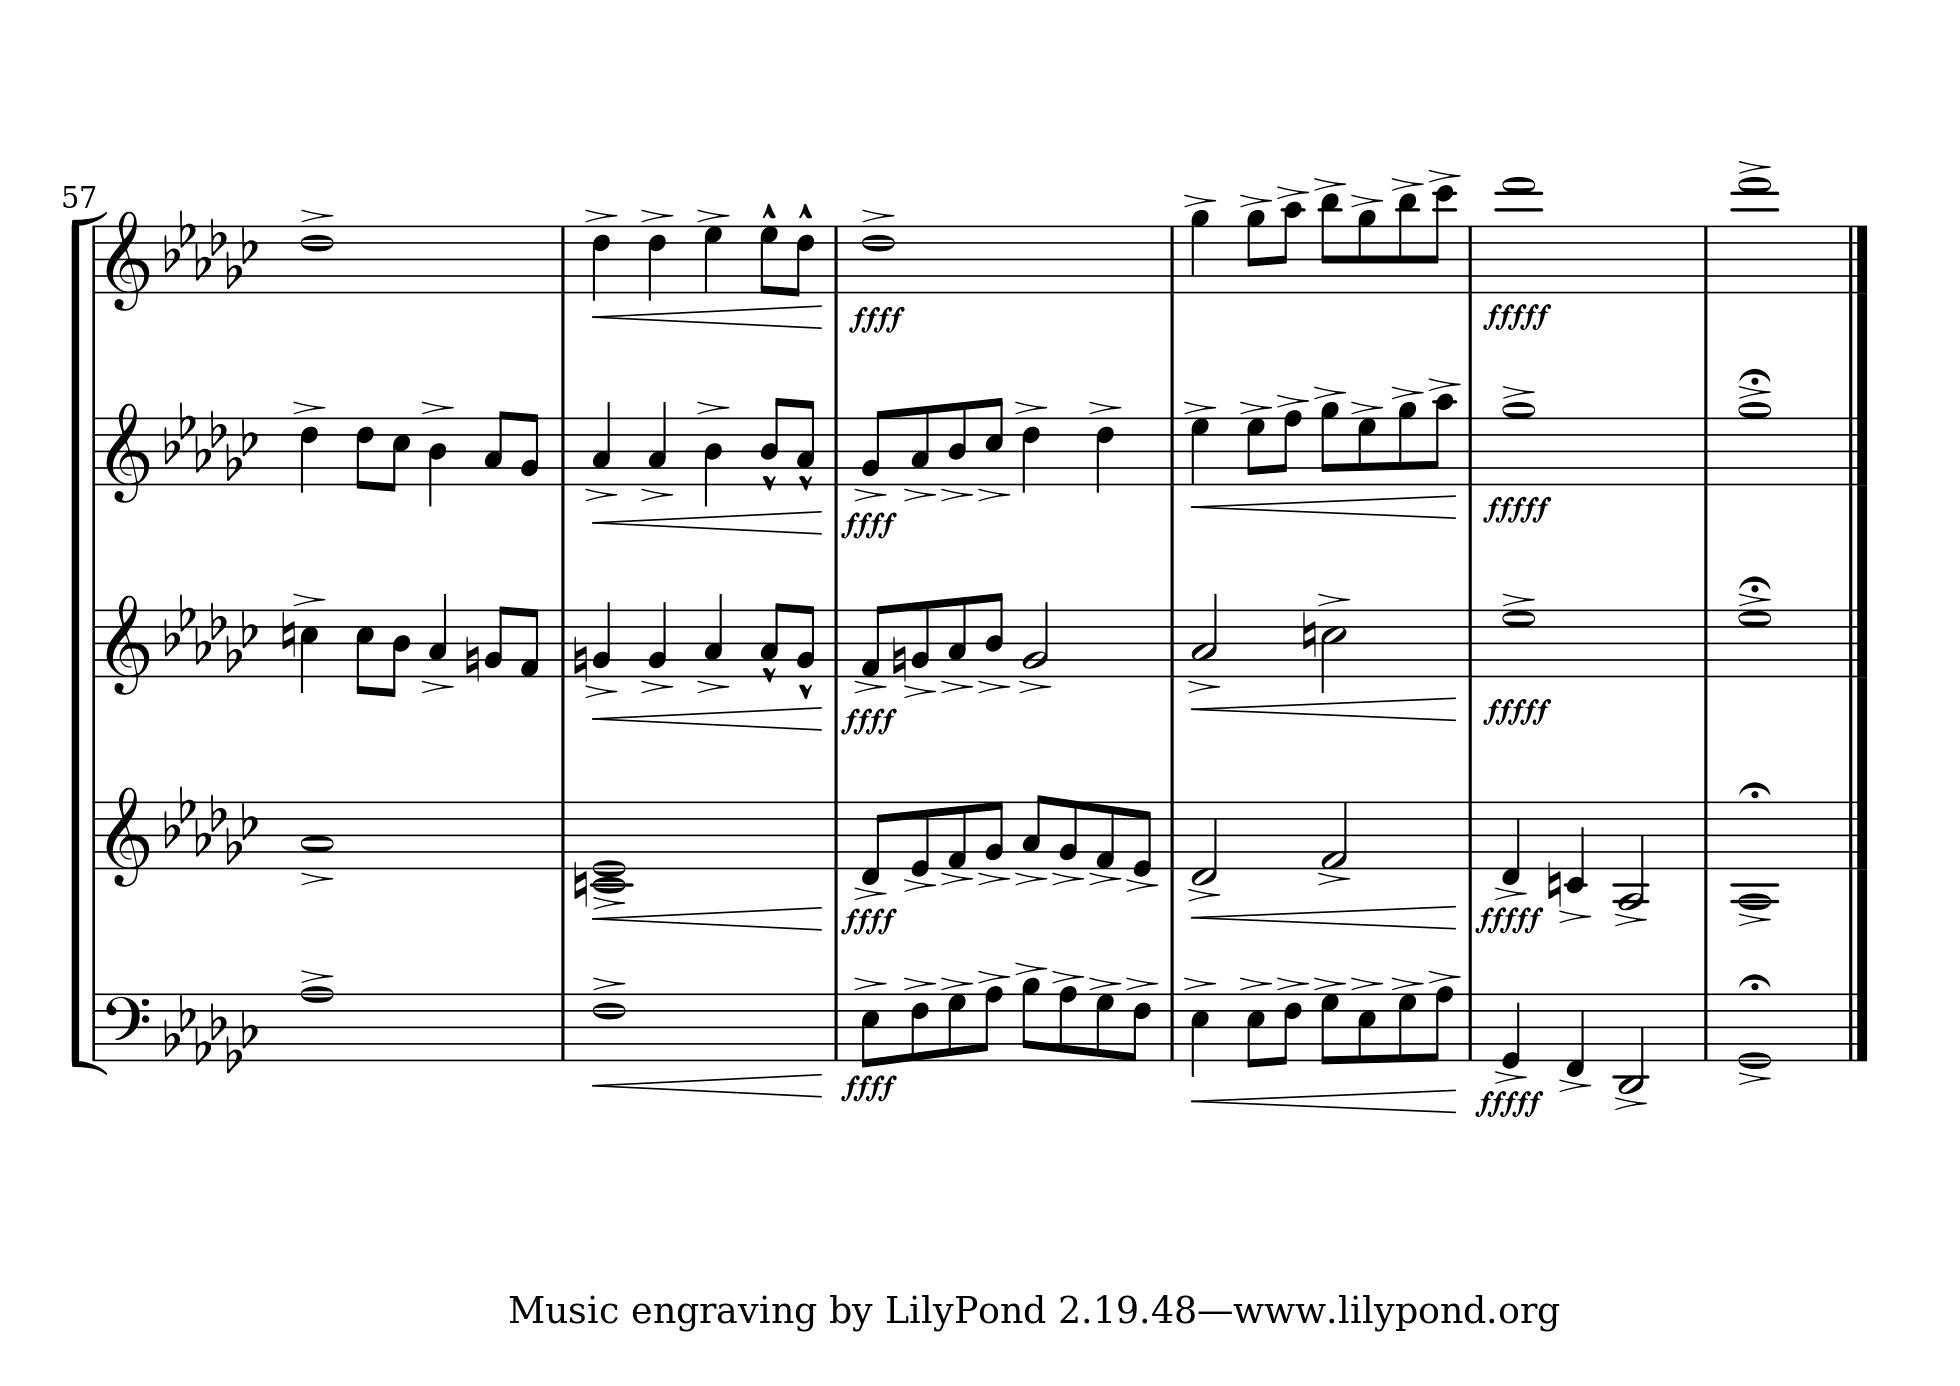1_-4: (1732, 798, 1779, 909)
1_0: (1737, 988, 1773, 1069)
1_13: (1497, 175, 1542, 295), (1734, 174, 1776, 295)
1_3: (301, 798, 334, 870)
1_6: (591, 991, 625, 1063), (861, 225, 895, 295), (301, 223, 334, 295)
1_7: (1500, 606, 1537, 679), (1737, 607, 1774, 679)
1_8: (300, 985, 336, 1065)
1_9: (1501, 402, 1537, 487), (1738, 399, 1773, 487)
2_-1: (1189, 798, 1221, 885)
2_-3: (1614, 991, 1648, 1093)
2_-4: (1614, 799, 1650, 909)
2_1: (1320, 799, 1350, 870)
2_2: (1023, 598, 1051, 679)
2_3: (1191, 591, 1221, 679)
2_5: (1320, 609, 1348, 694)
4_-1: (1500, 798, 1524, 885), (1563, 990, 1587, 1077)
4_-2: (1563, 798, 1588, 894)
4_0: (1498, 990, 1524, 1069)
4_2: (591, 598, 613, 676), (646, 598, 669, 676)
4_3: (589, 399, 613, 484), (646, 399, 669, 484), (702, 591, 724, 676), (427, 591, 448, 676)
4_4: (702, 415, 724, 507), (427, 417, 448, 508)
4_5: (1189, 991, 1212, 1078), (298, 607, 319, 694)
4_6: (1020, 415, 1042, 495), (298, 415, 319, 495), (1095, 415, 1116, 495), (589, 223, 610, 301), (646, 223, 667, 301)
4_7: (1189, 415, 1212, 487), (702, 223, 724, 294)
4_9: (1189, 205, 1212, 295)
5: (60, 181, 81, 211)
7: (76, 181, 99, 214)
8_-1: (858, 799, 889, 885)
8_0: (907, 799, 931, 877), (1131, 799, 1155, 877)
8_1: (858, 601, 889, 678), (945, 798, 969, 870), (517, 606, 540, 679), (1093, 799, 1116, 870)
8_10: (1275, 199, 1306, 295), (1426, 391, 1458, 486)
8_11: (1395, 190, 1422, 295), (1317, 190, 1342, 295)
8_12: (1425, 183, 1458, 294)
8_2: (859, 406, 888, 484), (483, 603, 510, 678), (907, 598, 931, 676), (795, 603, 817, 676), (1057, 796, 1080, 870), (520, 411, 541, 487), (984, 799, 1005, 868)
8_3: (1020, 792, 1048, 870), (481, 409, 510, 486), (757, 600, 784, 676), (795, 397, 817, 487), (945, 594, 969, 678), (907, 403, 931, 486)
8_4: (759, 394, 787, 486), (384, 607, 411, 699), (946, 399, 969, 486), (984, 589, 1005, 678)
8_5: (385, 415, 411, 493), (984, 396, 1005, 486), (355, 607, 375, 697), (859, 991, 880, 1069), (1245, 991, 1266, 1069), (1356, 991, 1377, 1065)
8_6: (1125, 991, 1153, 1063), (789, 223, 816, 298), (1276, 991, 1303, 1066), (354, 415, 375, 490), (909, 991, 930, 1063)
8_7: (1395, 991, 1419, 1063), (1318, 991, 1341, 1066), (1356, 415, 1378, 487), (1245, 415, 1267, 486), (945, 991, 967, 1062), (1093, 991, 1116, 1062), (757, 223, 778, 295)
8_8: (1275, 408, 1305, 487), (1426, 984, 1455, 1063), (976, 984, 1005, 1062), (1056, 984, 1078, 1062)
8_9: (1318, 400, 1342, 487), (1245, 207, 1267, 295), (1356, 208, 1378, 295), (1396, 400, 1419, 486), (1020, 976, 1042, 1062)
Accent_above: (289, 589, 328, 607), (1273, 181, 1311, 199), (291, 397, 327, 415), (418, 397, 454, 415), (1239, 190, 1273, 208), (1389, 175, 1425, 192), (1182, 190, 1215, 208), (298, 205, 331, 223), (583, 205, 616, 223), (1089, 397, 1122, 415), (1348, 397, 1384, 414), (418, 678, 454, 694), (1086, 973, 1122, 990), (1347, 192, 1386, 207), (1389, 384, 1423, 400), (1239, 397, 1273, 414), (694, 399, 729, 415), (583, 682, 618, 699), (1188, 885, 1222, 901), (861, 205, 892, 223), (1428, 373, 1459, 391), (1183, 397, 1215, 415), (973, 967, 1011, 982), (1426, 166, 1459, 183), (1014, 399, 1047, 415), (583, 486, 616, 502), (1317, 591, 1350, 607), (298, 870, 331, 886), (1125, 973, 1158, 990), (1311, 175, 1347, 190), (694, 207, 730, 222), (1311, 384, 1347, 399), (1275, 391, 1311, 406), (694, 679, 730, 694), (1048, 967, 1084, 982), (937, 973, 973, 988), (1011, 961, 1050, 975), (1501, 382, 1533, 399), (1183, 975, 1215, 991), (639, 486, 673, 501), (639, 679, 673, 694), (1492, 885, 1527, 900), (591, 895, 625, 910), (298, 967, 333, 982), (1737, 157, 1770, 172), (640, 207, 673, 222), (1737, 384, 1770, 399), (1500, 589, 1533, 604), (853, 678, 883, 694), (1188, 678, 1221, 693), (853, 883, 883, 900), (1557, 909, 1590, 924), (1737, 912, 1770, 927), (1239, 975, 1272, 990), (1494, 1069, 1527, 1084), (1614, 1095, 1647, 1110), (903, 682, 934, 697), (976, 870, 1008, 885), (1126, 877, 1158, 892), (592, 975, 624, 990), (1317, 871, 1351, 885), (901, 975, 936, 988), (1275, 975, 1309, 988), (1312, 975, 1347, 988), (1348, 975, 1383, 988), (853, 487, 883, 502), (940, 678, 970, 693), (903, 877, 933, 892), (853, 975, 883, 990), (1738, 1069, 1768, 1084), (976, 487, 1009, 501), (1737, 591, 1770, 604), (1018, 679, 1051, 693), (1614, 912, 1647, 925), (1557, 1078, 1590, 1092), (940, 870, 969, 885), (976, 679, 1008, 693), (903, 487, 933, 501), (1014, 870, 1044, 883), (940, 487, 969, 501), (1089, 871, 1116, 885), (1050, 871, 1080, 883)
Bracke: (69, 210, 108, 1078)
Crescendo_hairpin: (1197, 903, 1455, 931), (1192, 694, 1459, 721), (595, 507, 823, 538), (591, 301, 823, 331), (1191, 1087, 1461, 1111), (1189, 493, 1458, 517), (589, 904, 826, 931), (592, 1072, 823, 1098), (591, 706, 823, 730)
Fclef: (103, 991, 148, 1063)
Fermata_above: (1737, 574, 1771, 592), (1738, 367, 1773, 384), (1738, 780, 1771, 796), (1740, 972, 1771, 988)
Final_barline: (1845, 223, 1870, 292), (1845, 417, 1869, 484), (1845, 607, 1869, 675), (1845, 991, 1869, 1059), (1845, 801, 1869, 867)
G_F: (160, 591, 261, 673), (162, 783, 259, 865), (163, 207, 259, 289), (163, 990, 259, 1072), (162, 399, 259, 480)
Gclef: (103, 784, 151, 889), (105, 208, 151, 313), (105, 592, 151, 697), (105, 400, 150, 505)
Marcato_above: (759, 474, 804, 489), (760, 472, 778, 492), (760, 201, 777, 220), (796, 201, 813, 220), (798, 474, 814, 492), (762, 666, 777, 685), (798, 681, 813, 697)
Natural: (571, 858, 589, 907), (463, 634, 481, 682), (571, 633, 589, 681), (1300, 607, 1317, 658), (1545, 859, 1563, 906), (891, 634, 907, 681), (280, 607, 295, 658)
Single_barline: (1162, 801, 1182, 868), (553, 415, 571, 484), (1461, 225, 1479, 292), (85, 417, 103, 484), (1164, 609, 1182, 676), (85, 226, 103, 292), (826, 801, 844, 867), (1164, 226, 1182, 291), (1698, 226, 1716, 291), (553, 801, 571, 865), (1461, 802, 1479, 867), (1165, 417, 1182, 484), (1165, 993, 1182, 1060), (1462, 993, 1479, 1060), (555, 226, 571, 292), (1698, 417, 1714, 483), (1698, 609, 1714, 675), (85, 610, 102, 676), (1698, 801, 1714, 867), (85, 993, 102, 1059), (1698, 993, 1714, 1059), (1462, 610, 1479, 675), (85, 802, 102, 867), (555, 993, 571, 1057), (555, 607, 570, 676), (1462, 418, 1477, 484), (828, 607, 843, 672), (828, 994, 843, 1059), (829, 225, 841, 294), (829, 415, 841, 475)
ffff: (838, 507, 898, 543), (838, 903, 900, 937), (847, 301, 907, 336), (838, 703, 900, 736), (838, 1071, 898, 1104)
fffff: (1480, 300, 1554, 331), (1480, 493, 1554, 525), (1480, 694, 1554, 726), (1476, 904, 1545, 934), (1476, 1087, 1545, 1117)
